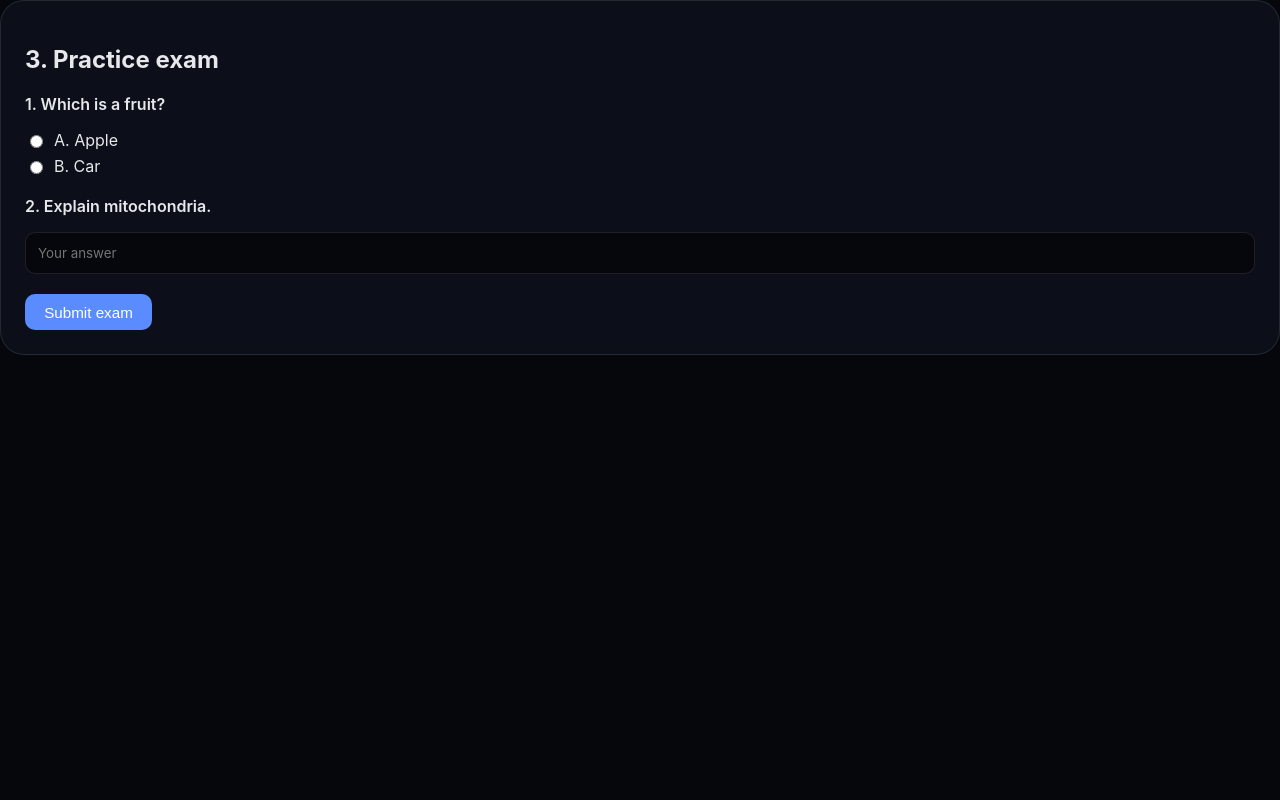
Test: ExamPanel › shows the manual-review warning badge when flagged
Step 1. Click the button "Submit exam" → coordinates (88, 312), box left=25, top=294, right=152, bottom=330
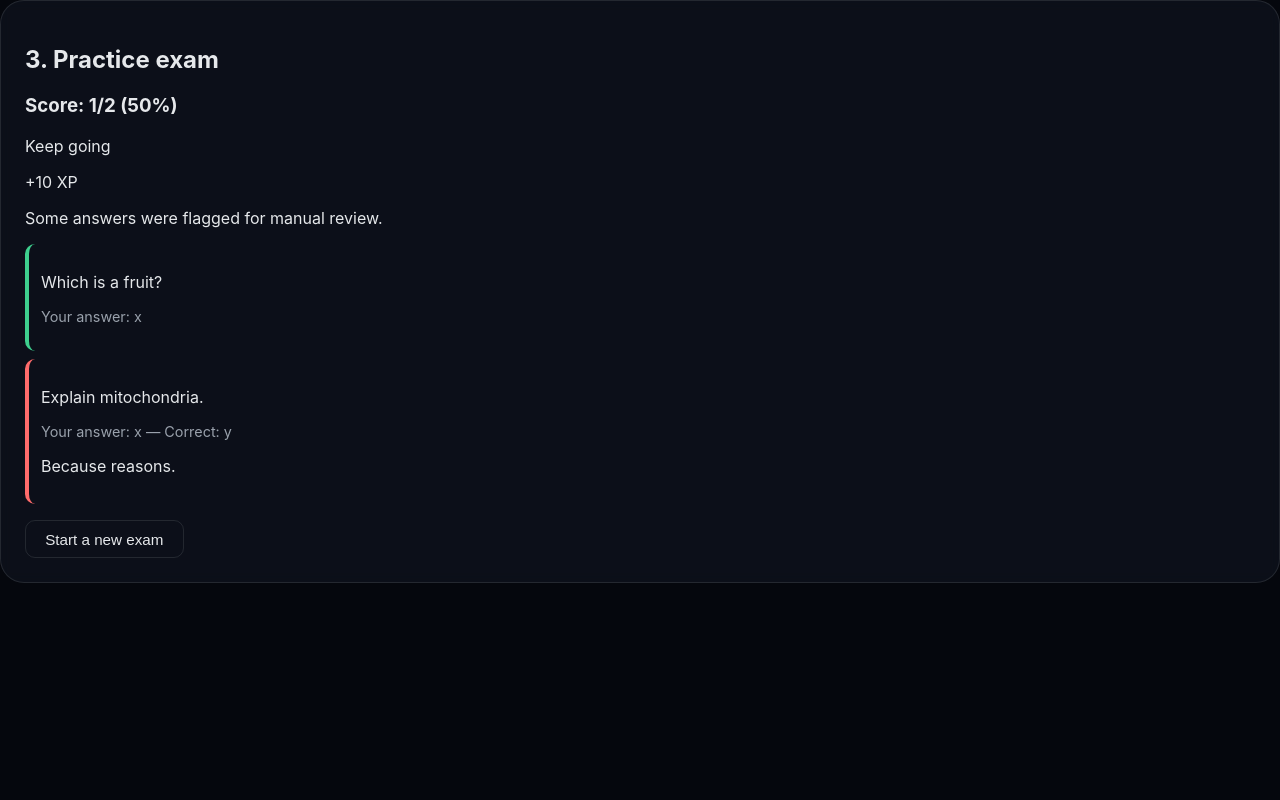
Now the text "Some answers were flagged for manual review." is shown, box left=25, top=208, right=382, bottom=228
